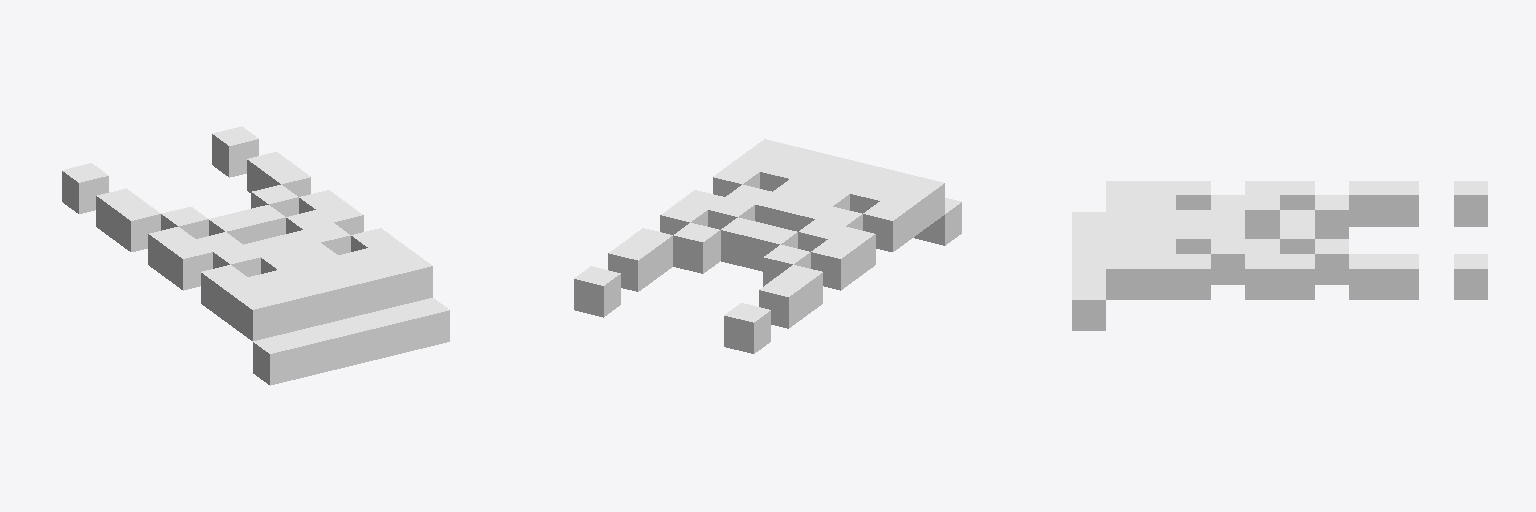
The model's file is Body-8-DualStriker_Fire.obj.
The picture shows the model from 3 angles: view 1: azimuth 30°, elevation 25°; view 2: azimuth 150°, elevation 25°; view 3: azimuth 270°, elevation 25°; orthographic projection.
Visible parts, largest first — view 1: DualStriker_Fire; view 2: DualStriker_Fire; view 3: DualStriker_Fire.
Boxes of the visible parts, x1=… form: DualStriker_Fire: x1=62, y1=126, x2=449, y2=385; DualStriker_Fire: x1=574, y1=139, x2=961, y2=353; DualStriker_Fire: x1=1072, y1=181, x2=1487, y2=330.
Size of the model in its own units: 0.6 by 0.2 by 1.2.